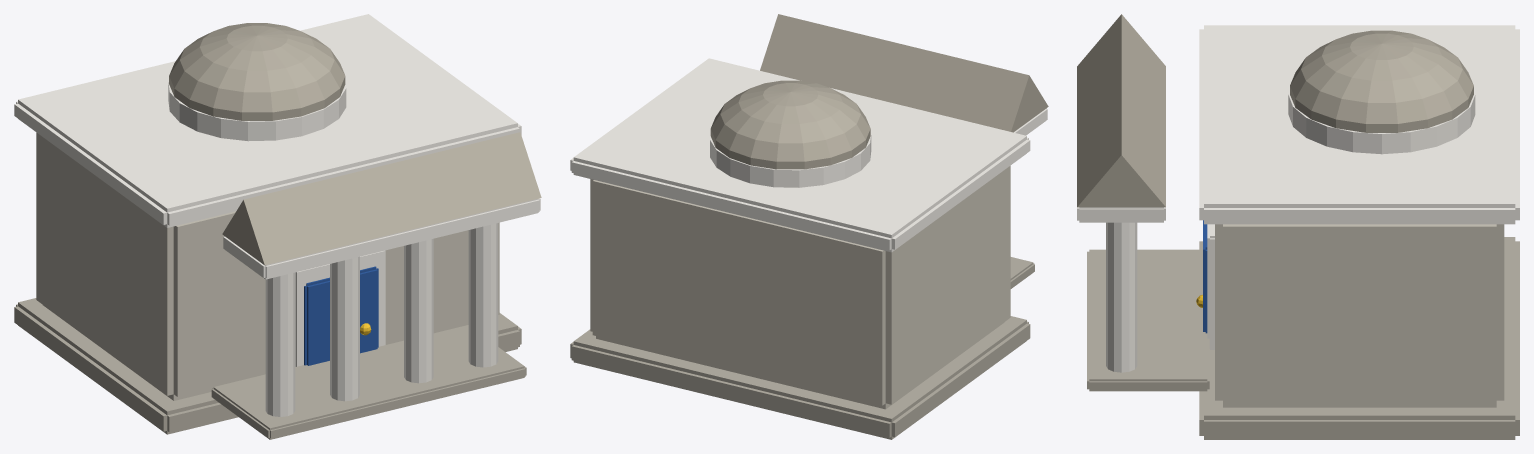
File: bank.glb
3 renders of one model, left to right at view 1: azimuth 30°, elevation 25°; view 2: azimuth 150°, elevation 25°; view 3: azimuth 270°, elevation 25°, orthographic. The views are drawn at different scales.
Visible parts, largest first — view 1: bank; view 2: bank; view 3: bank.
Part boxes in pixels (box(x1,y1,x2,y2)): bank: box(14, 14, 541, 439); bank: box(570, 14, 1048, 439); bank: box(1077, 14, 1519, 439).
Bounding box in the file's own units: 1.94 × 1.52 × 1.99.
